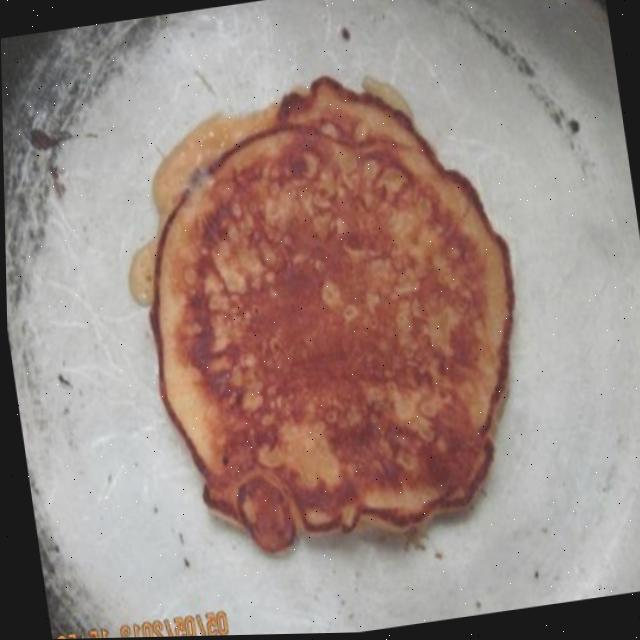蛋糕甜品: (28, 25, 595, 621)
